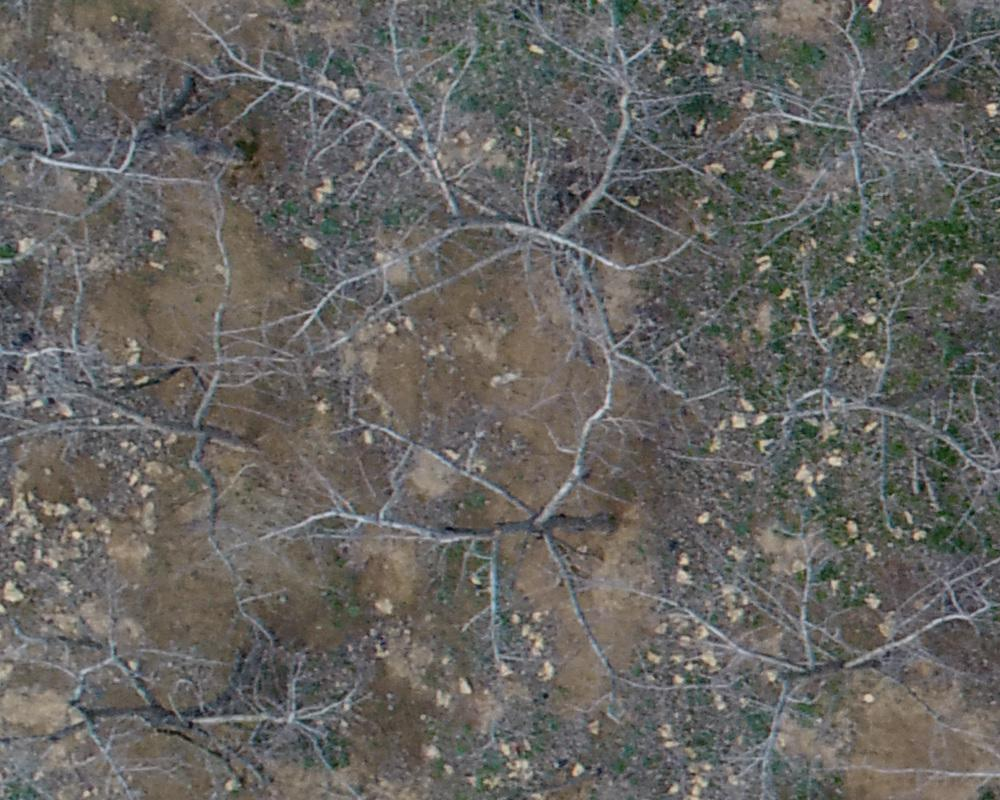apple: (160, 10, 743, 417), (222, 400, 666, 715), (576, 479, 990, 790), (10, 243, 293, 587), (17, 596, 396, 790), (10, 56, 217, 297)
